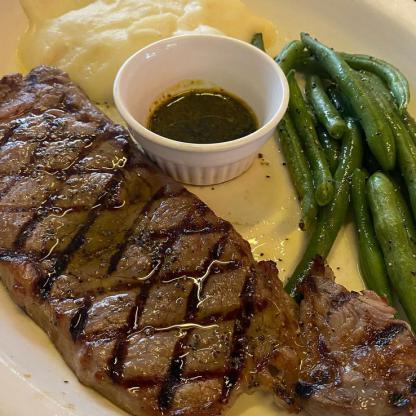Carne: (0, 67, 283, 415), (280, 267, 409, 415)
